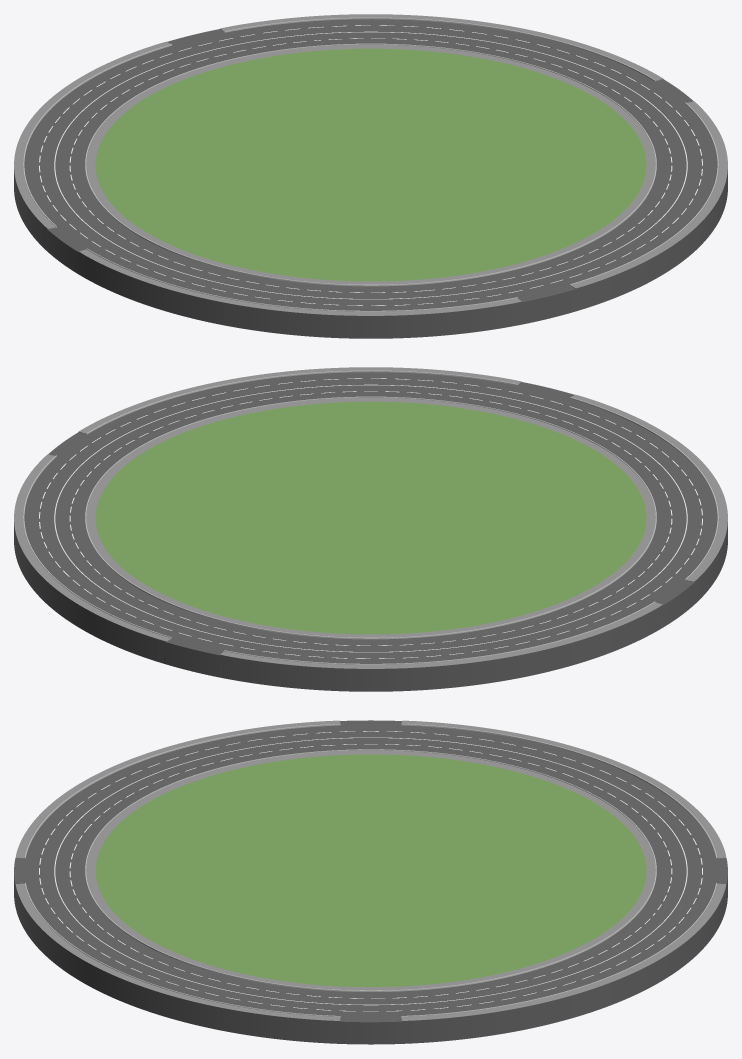
File: center_road.fbx
3 renders of one model, top to bottom at view 1: azimuth 30°, elevation 25°; view 2: azimuth 150°, elevation 25°; view 3: azimuth 270°, elevation 25°, orthographic.
Parts seen in each view (by area): view 1: road_tile_2x2_6; view 2: road_tile_2x2_6; view 3: road_tile_2x2_6.
Part boxes in pixels (bbox=[...]): road_tile_2x2_6: bbox=[14, 14, 727, 338]; road_tile_2x2_6: bbox=[14, 367, 727, 691]; road_tile_2x2_6: bbox=[14, 720, 727, 1044].
Bounding box in the file's own units: 7000 × 254 × 7000.
